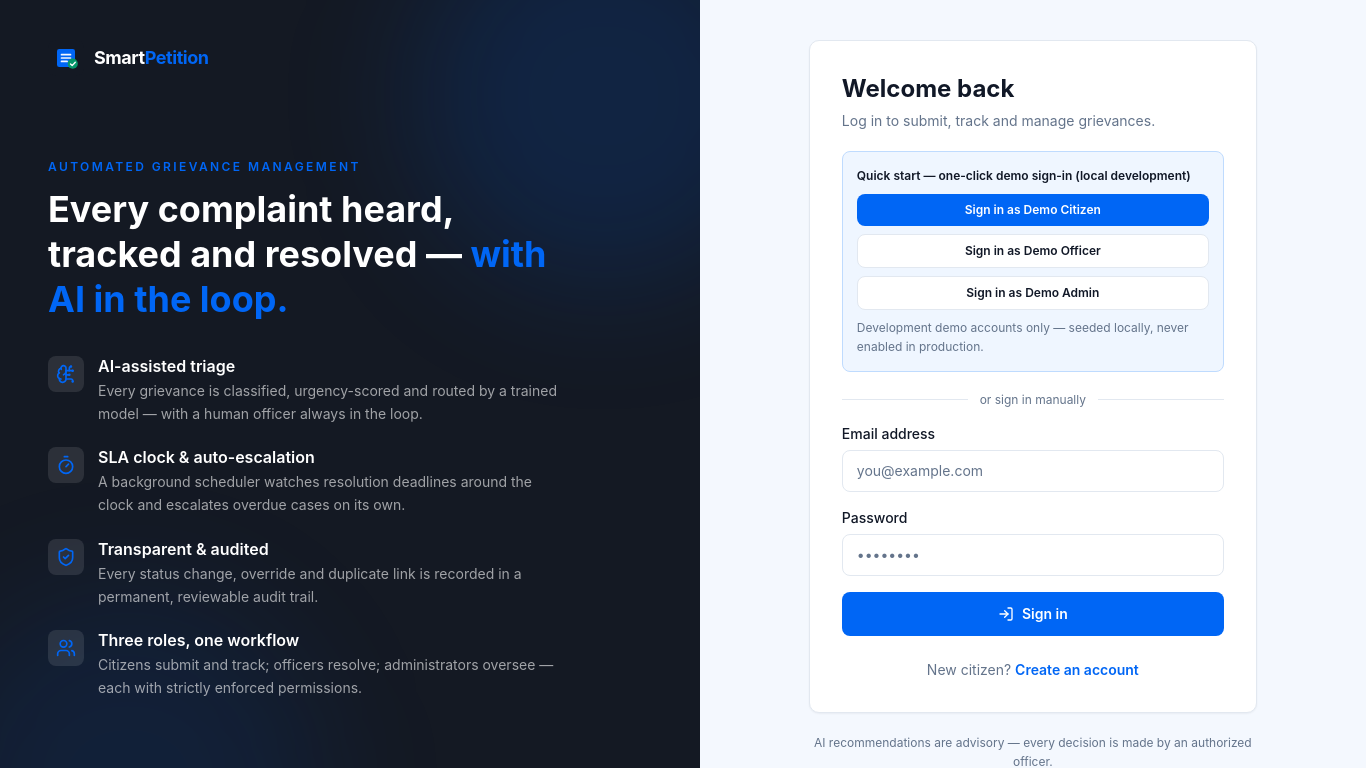
it: one-click demo login › shows a clear error when demo credentials are rejected (account not seeded)
Click the button "Sign in as Demo Citizen" at (1033, 210), box [857,194,1209,226]
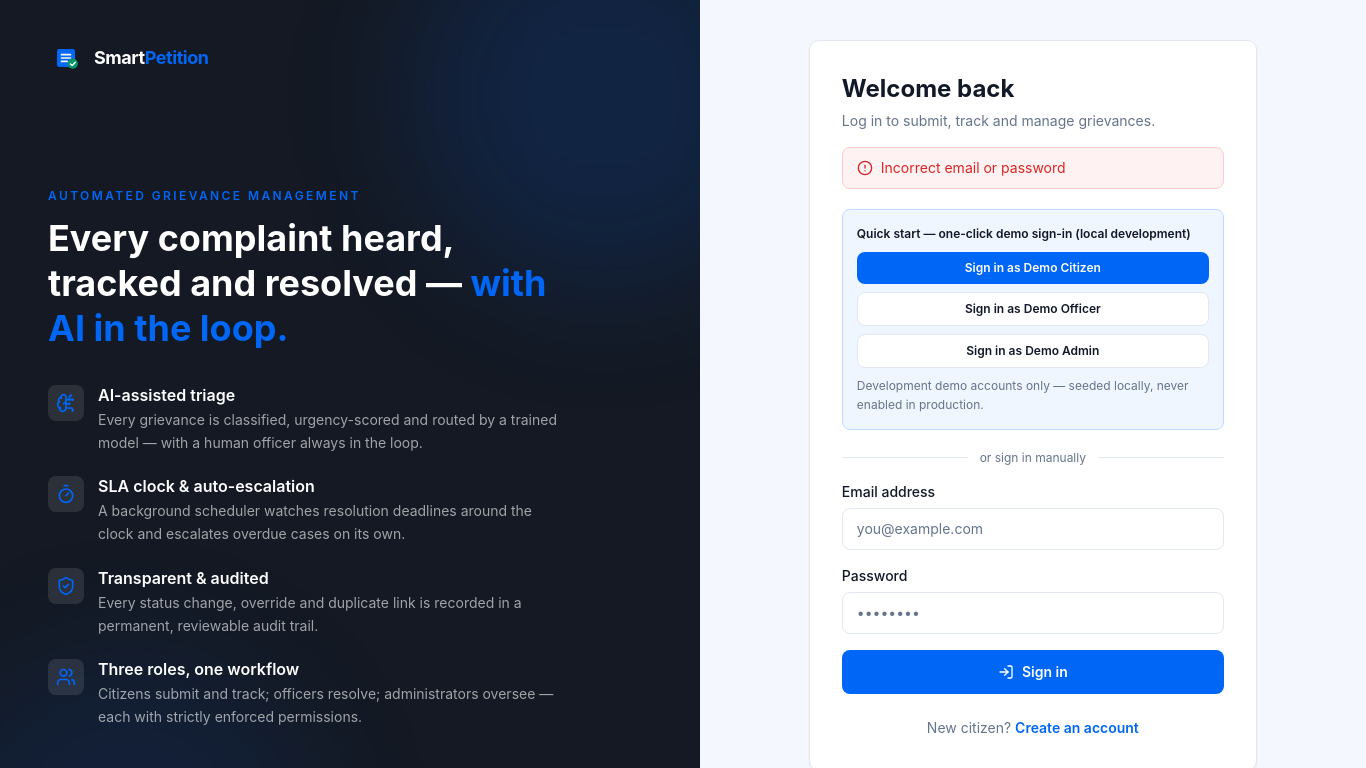
Result: the message reads "Incorrect email or password" at [881,159,1066,176]
